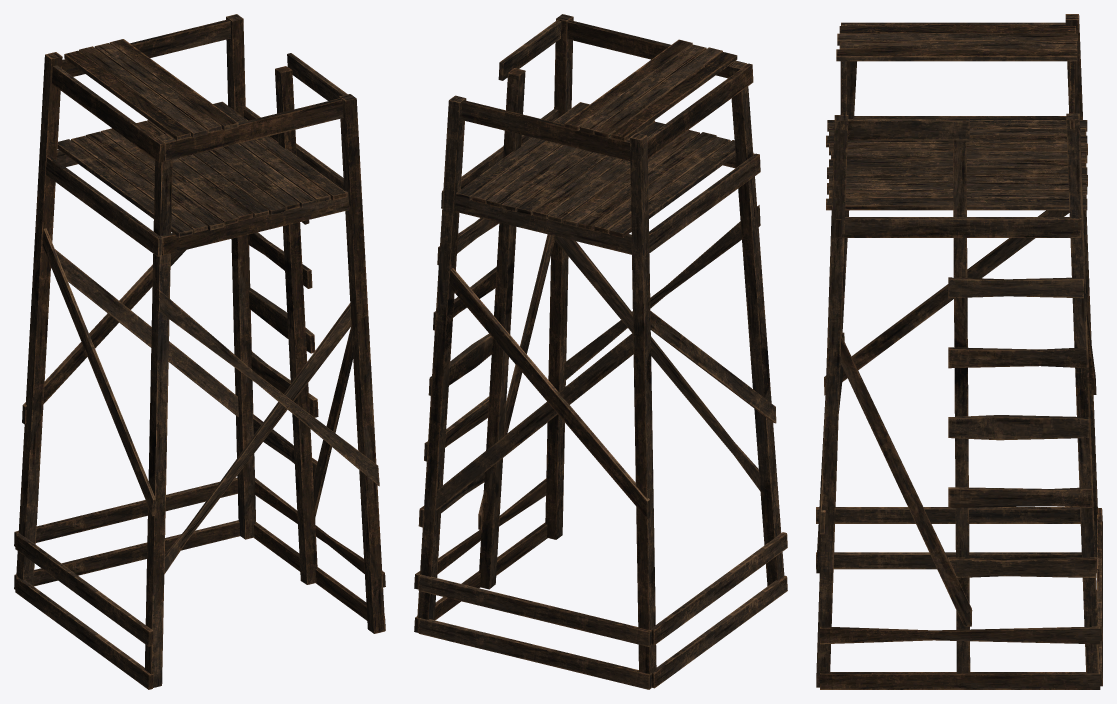
Rendered from SM_Tower.fbx.
3 renders of one model, left to right at view 1: azimuth 30°, elevation 25°; view 2: azimuth 150°, elevation 25°; view 3: azimuth 270°, elevation 25°, orthographic. The views are drawn at different scales.
Visible parts, largest first — view 1: SM_Tower; view 2: SM_Tower; view 3: SM_Tower.
Part boxes in pixels (<box>): SM_Tower: <box>14,14,385,689</box>; SM_Tower: <box>414,14,787,689</box>; SM_Tower: <box>816,14,1102,689</box>.
Size of the model in its own units: 171 by 369 by 170.
